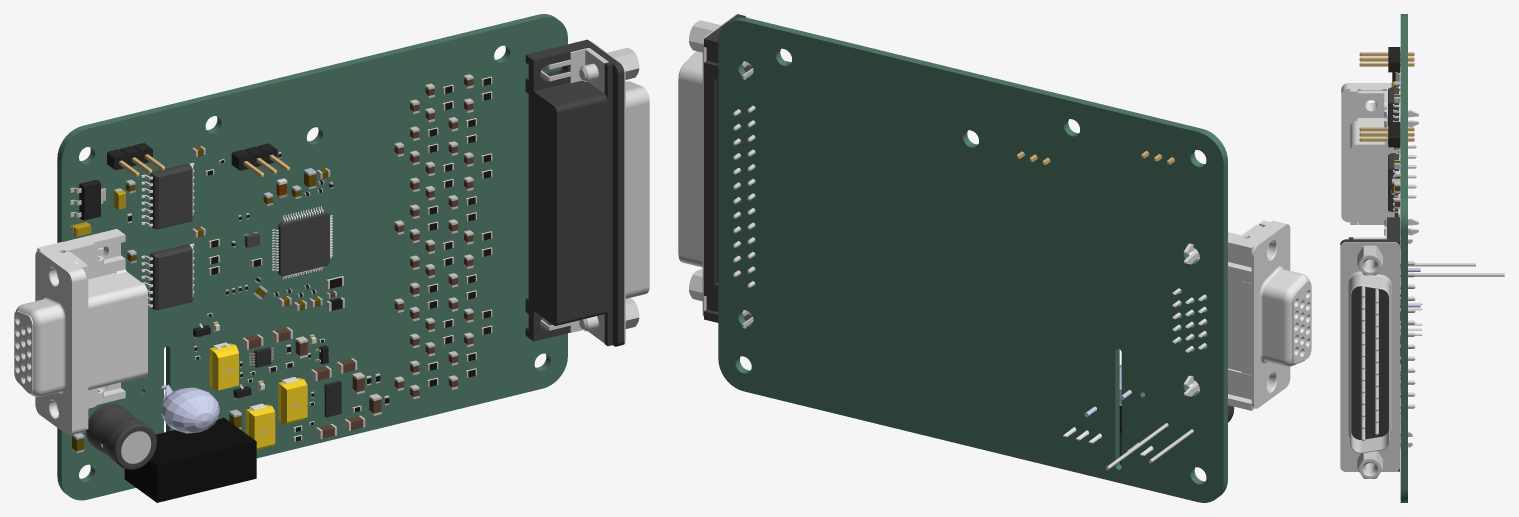
The model's file is emg-acquisition.glb.
3 renders of one model, left to right at view 1: azimuth 30°, elevation 25°; view 2: azimuth 150°, elevation 25°; view 3: azimuth 270°, elevation 25°, orthographic. The views are drawn at different scales.
Parts seen in each view (by area): view 1: =>[0:1:1:30], J4006, J1002, U2001, BODY-SOIC (×2), BODY_VEC64A, NAUO4, C2005, C2012, C2004, C2002, J4005 (+3 smaller); view 2: =>[0:1:1:30], J1002, J4006; view 3: J4006, J1002, =>[0:1:1:30], J1004, J4005, BODY-SOIC (×2), NAUO3, NAUO2, U2001.
Boxes of the visible parts, box(x1,y1,x2,y2) form: =>[0:1:1:30]: box(57, 14, 567, 500); J4006: box(525, 39, 649, 346); J1002: box(14, 229, 147, 435); U2001: box(124, 417, 256, 502); BODY-SOIC (×2): box(150, 164, 192, 309); BODY_VEC64A: box(278, 211, 329, 276); NAUO4: box(86, 403, 156, 469); C2005: box(161, 384, 219, 433); C2012: box(209, 342, 238, 390); C2004: box(278, 377, 307, 424); C2002: box(245, 403, 275, 449); J4005: box(231, 143, 289, 177); =>[0:1:1:30]: box(718, 17, 1227, 502); J1002: box(1172, 220, 1311, 410); J4006: box(678, 14, 791, 328); J4006: box(1340, 217, 1415, 478); J1002: box(1341, 83, 1418, 248); =>[0:1:1:30]: box(1400, 14, 1407, 502); J1004: box(1359, 47, 1414, 72); J4005: box(1359, 122, 1414, 147); BODY-SOIC (×2): box(1388, 87, 1398, 211); NAUO3: box(1415, 273, 1504, 276); NAUO2: box(1400, 263, 1475, 266); U2001: box(1400, 294, 1422, 363).
Bounding box in the file's own units: 0.1213 × 0.07 × 0.0345.
